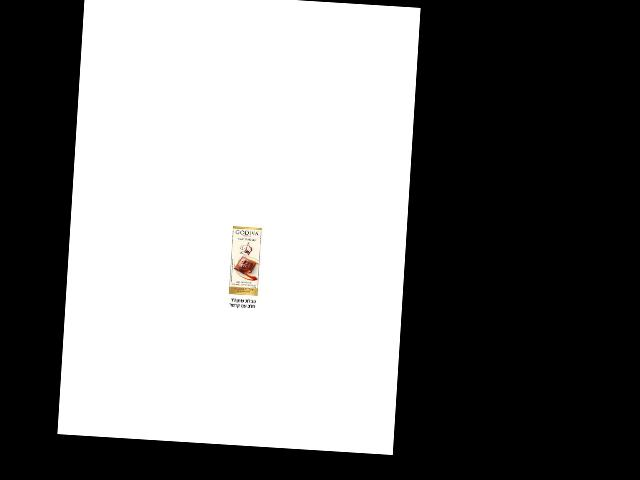chocolate: (229, 224, 264, 298)
